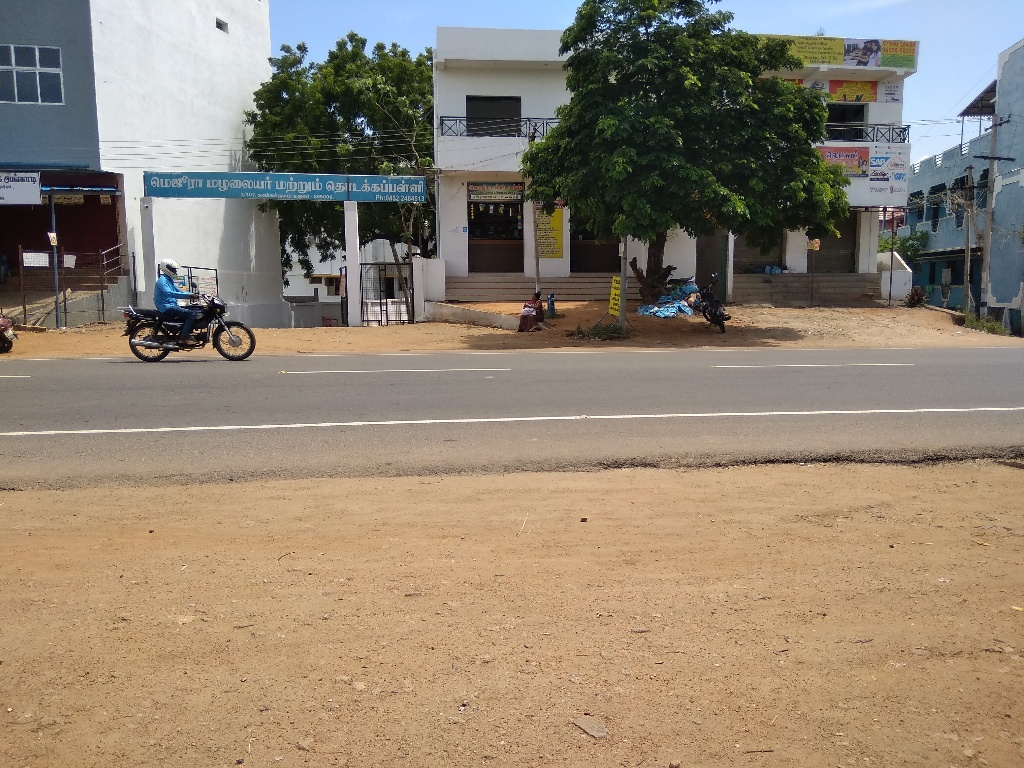biker: (115, 225, 268, 367)
helmet: (149, 249, 187, 291)
